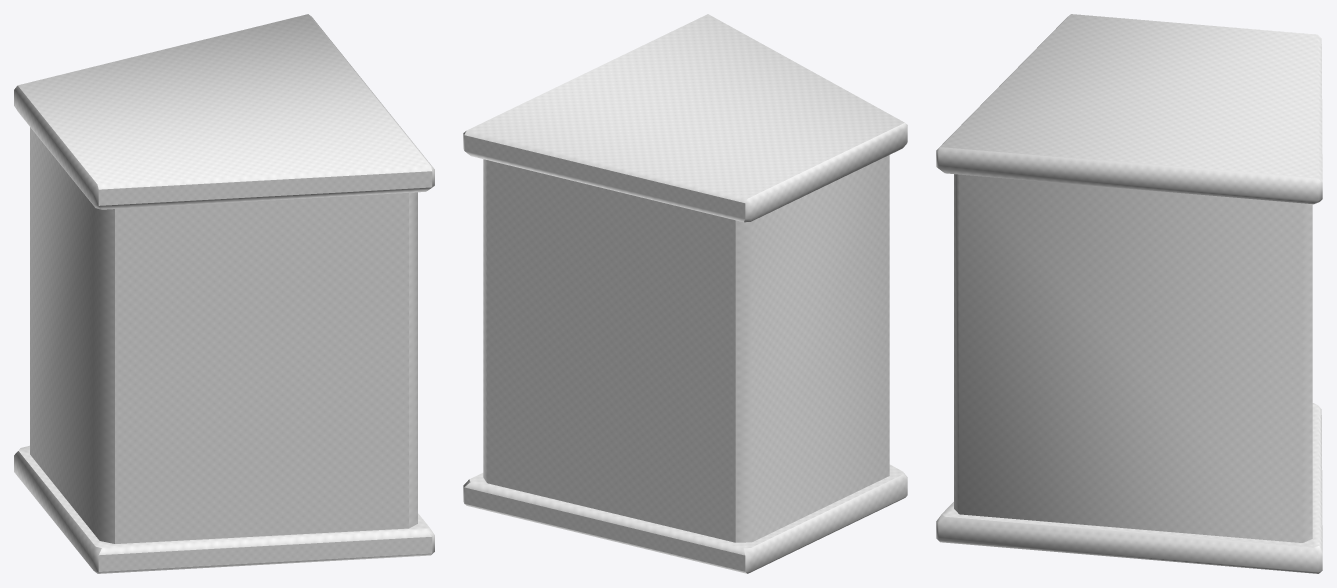
Rendered from rgtowerpressgrounda.dae.
3 views of the same model, side by side, from view 1: azimuth 30°, elevation 25°; view 2: azimuth 150°, elevation 25°; view 3: azimuth 270°, elevation 25° (orthographic). The views are drawn at different scales.
Parts seen in each view (by area): view 1: n0b0; view 2: n0b0; view 3: n0b0.
Part boxes in pixels (x1,y1,x2,y2): n0b0: (14, 14, 434, 573); n0b0: (463, 14, 907, 573); n0b0: (936, 14, 1322, 573).
Size of the model in its own units: 457 by 501 by 444.
